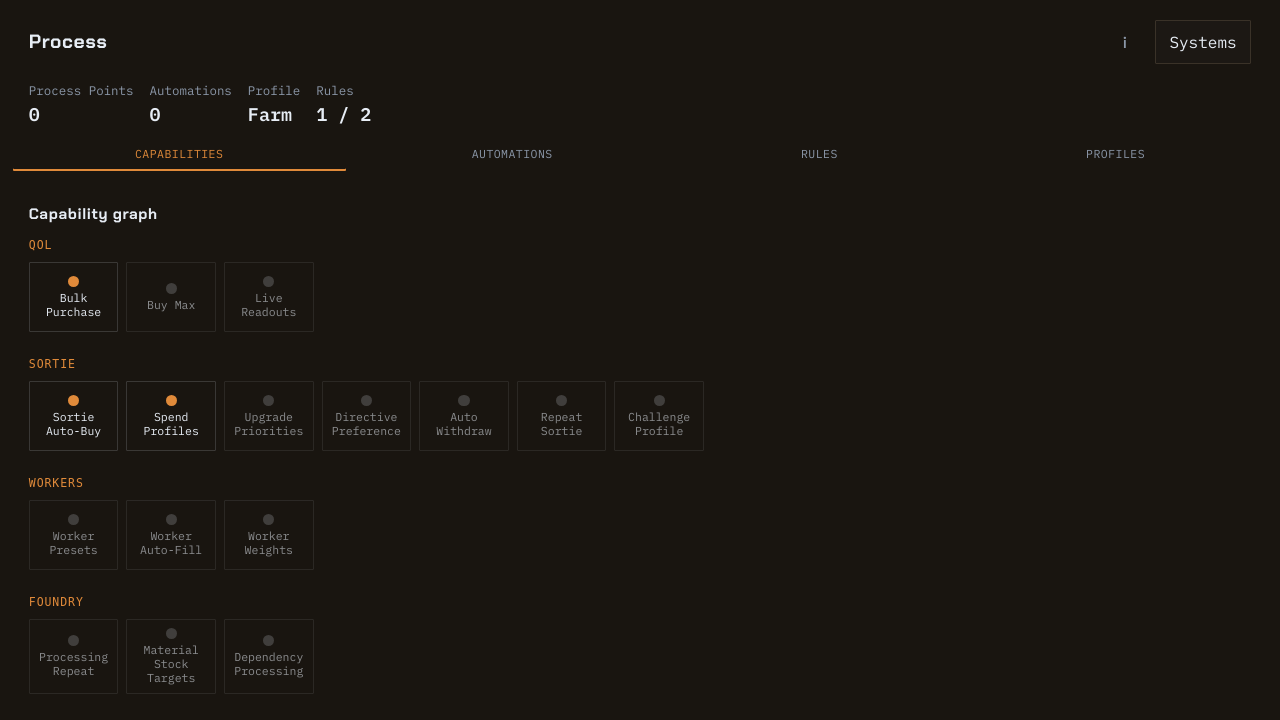
Scenario: Process 3.0 UI › edits a rule in a full-height sheet with chips, not syntax
Click the tab "Rules": (819, 154) [679,137,960,171]
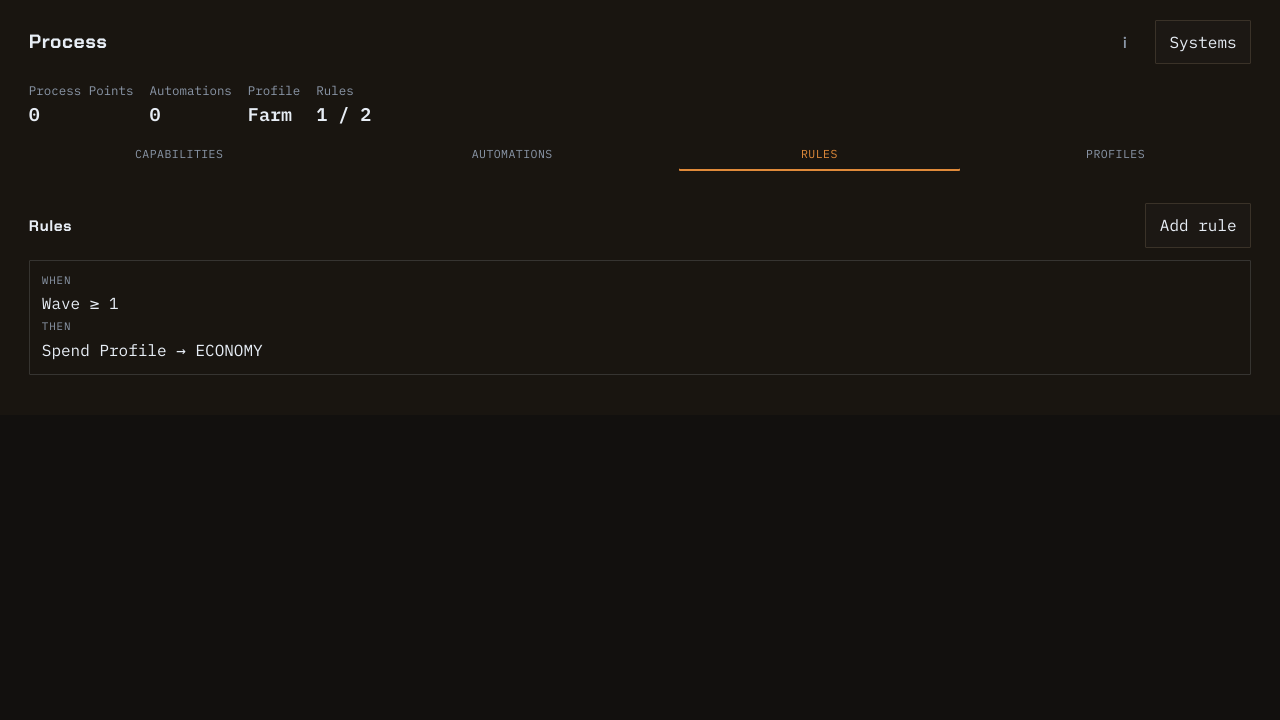
Now the text "WHEN" is shown, box [42,272,71,286]
Now the text "Wave ≥ 1" is shown
Now the text "THEN" is shown, box [42,320,71,334]
Click the text "Wave ≥ 1": (80, 303) [42,293,119,313]
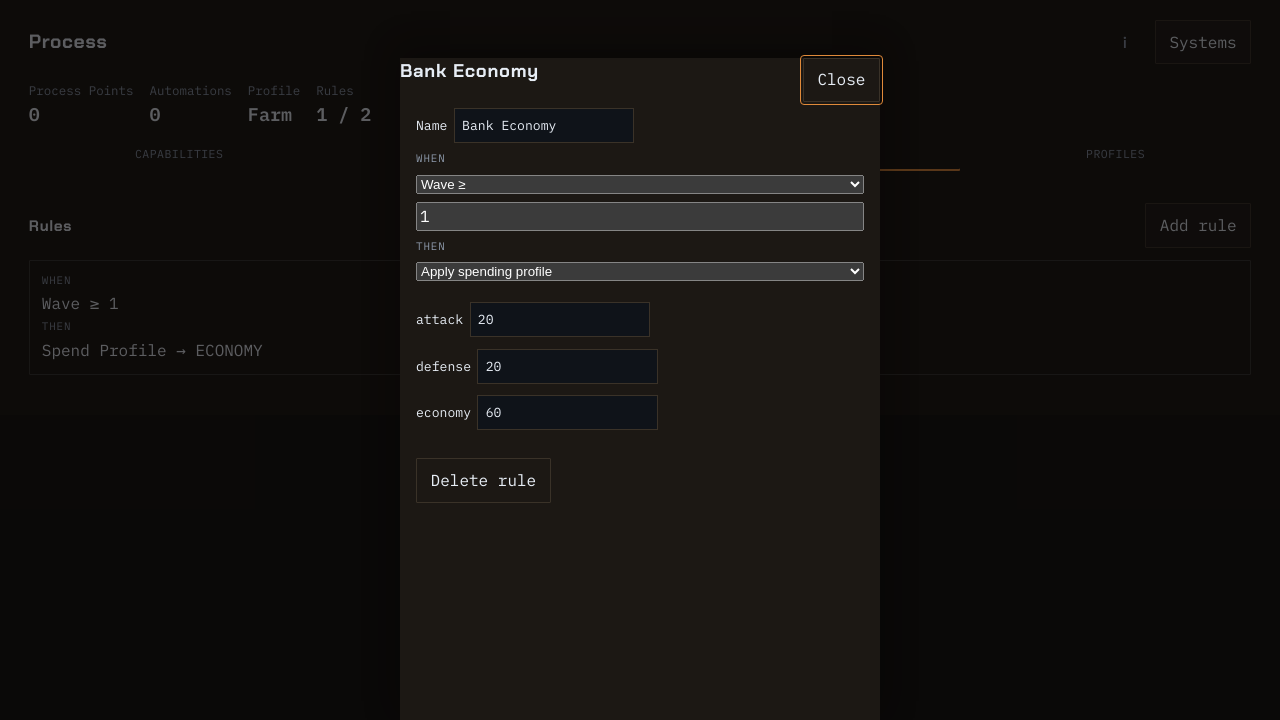
Now the dialog "Bank Economy" is shown, box [400,58,880,719]
Now the button "Delete rule" is shown, box [416,458,551,503]
